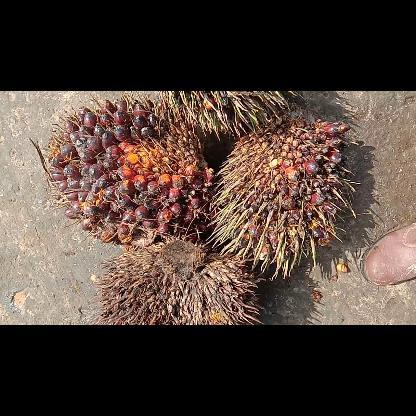TBS abnormal: (212, 114, 354, 274), (99, 232, 261, 324)
Terlalu masak: (35, 97, 210, 241)
